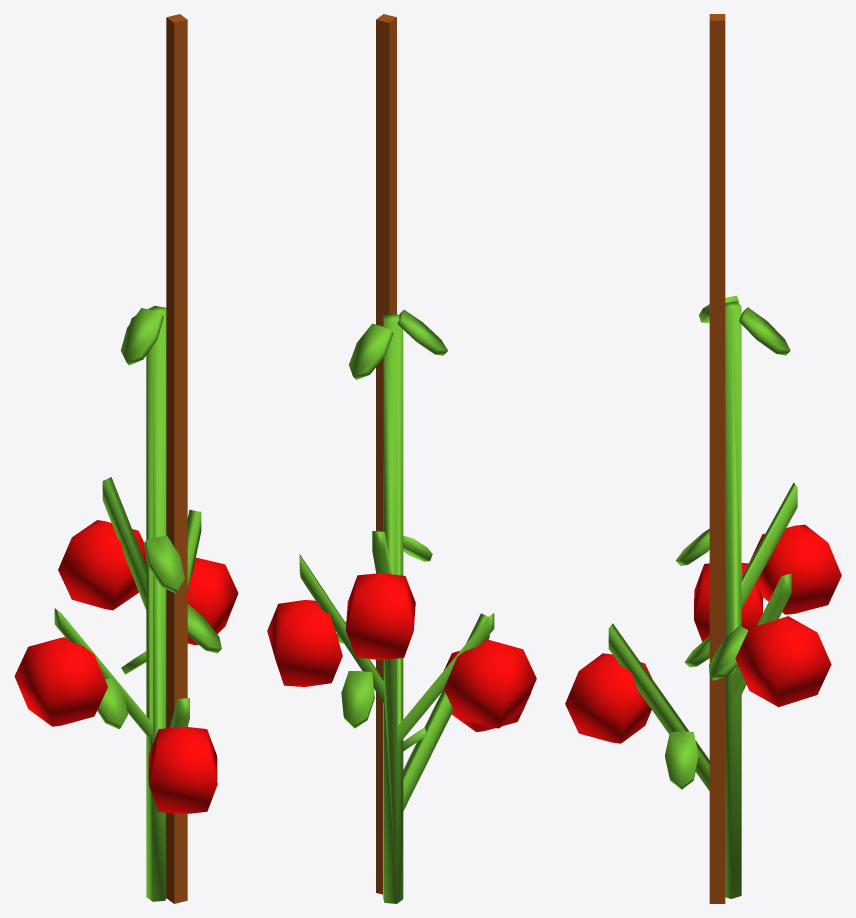
Rendered from tomato-eat1.obj.
3 views of the same model, side by side, from view 1: azimuth 30°, elevation 25°; view 2: azimuth 150°, elevation 25°; view 3: azimuth 270°, elevation 25° (orthographic).
Visible parts, largest first — view 1: cube2, cylinder5, sphere6, sphere6_copy7, sphere6_copy10, sphere6_copy9, cylinder12_copy16, cylinder12_copy14, cylinder12_copy13, cylinder12_copy15; view 2: cylinder5, cube2, sphere6, sphere6_copy10, sphere6_copy9, cylinder12_copy14, cylinder12_copy17; view 3: cylinder5, cube2, sphere6_copy9, sphere6_copy7, sphere6_copy10, sphere6, cylinder12, cylinder12_copy14, cylinder12_copy15, cylinder12_copy16.
Boxes of the visible parts, x1,y1,x2,y2 form: cube2: (166, 14, 187, 903); cylinder5: (54, 305, 201, 901); sphere6: (14, 637, 107, 726); sphere6_copy7: (148, 726, 217, 814); sphere6_copy10: (58, 520, 146, 610); sphere6_copy9: (187, 557, 238, 645); cylinder12_copy16: (143, 535, 184, 593); cylinder12_copy14: (120, 307, 164, 365); cylinder12_copy13: (97, 677, 128, 729); cylinder12_copy15: (187, 604, 221, 653); cylinder5: (299, 313, 494, 903); cube2: (376, 14, 396, 894); sphere6: (444, 639, 536, 728); sphere6_copy10: (345, 573, 415, 660); sphere6_copy9: (267, 600, 342, 686); cylinder12_copy14: (349, 309, 447, 379); cylinder12_copy17: (341, 671, 374, 728); cylinder5: (608, 301, 797, 898); cube2: (709, 14, 725, 903); sphere6_copy9: (735, 616, 831, 707); sphere6_copy7: (565, 653, 651, 743); sphere6_copy10: (749, 524, 841, 614); sphere6: (694, 562, 762, 641); cylinder12: (665, 731, 698, 789); cylinder12_copy14: (699, 295, 790, 355); cylinder12_copy15: (709, 625, 748, 680); cylinder12_copy16: (675, 528, 709, 565).
Size of the model in its own units: 1.65 by 6 by 1.7.
